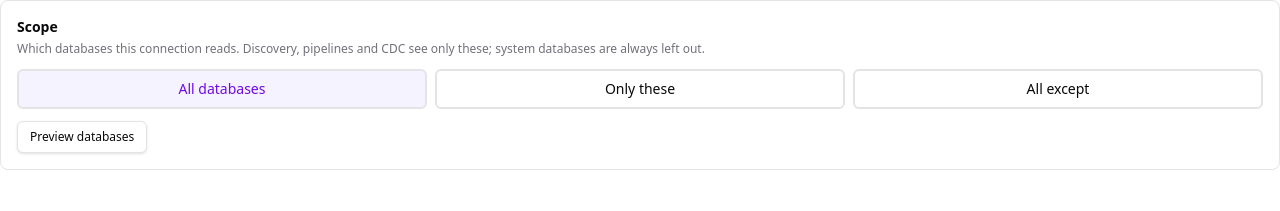
Test: ConnectionScopeSection › shows why a listing failed
Click the button "Preview databases" at (82, 137), box [17,121,147,153]
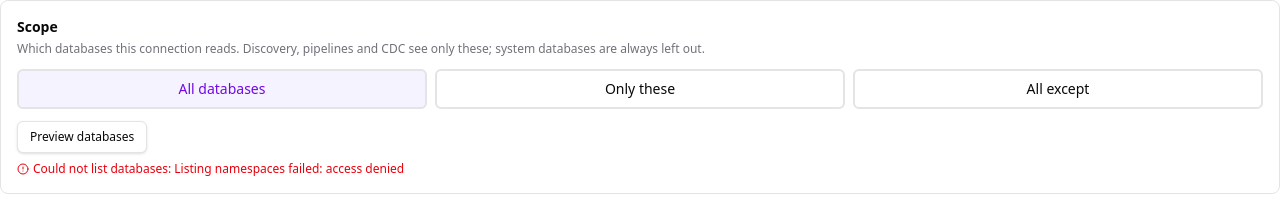
Result: the element with test id "connection-scope-load-error" shows "access denied" at [174,160,404,177]
